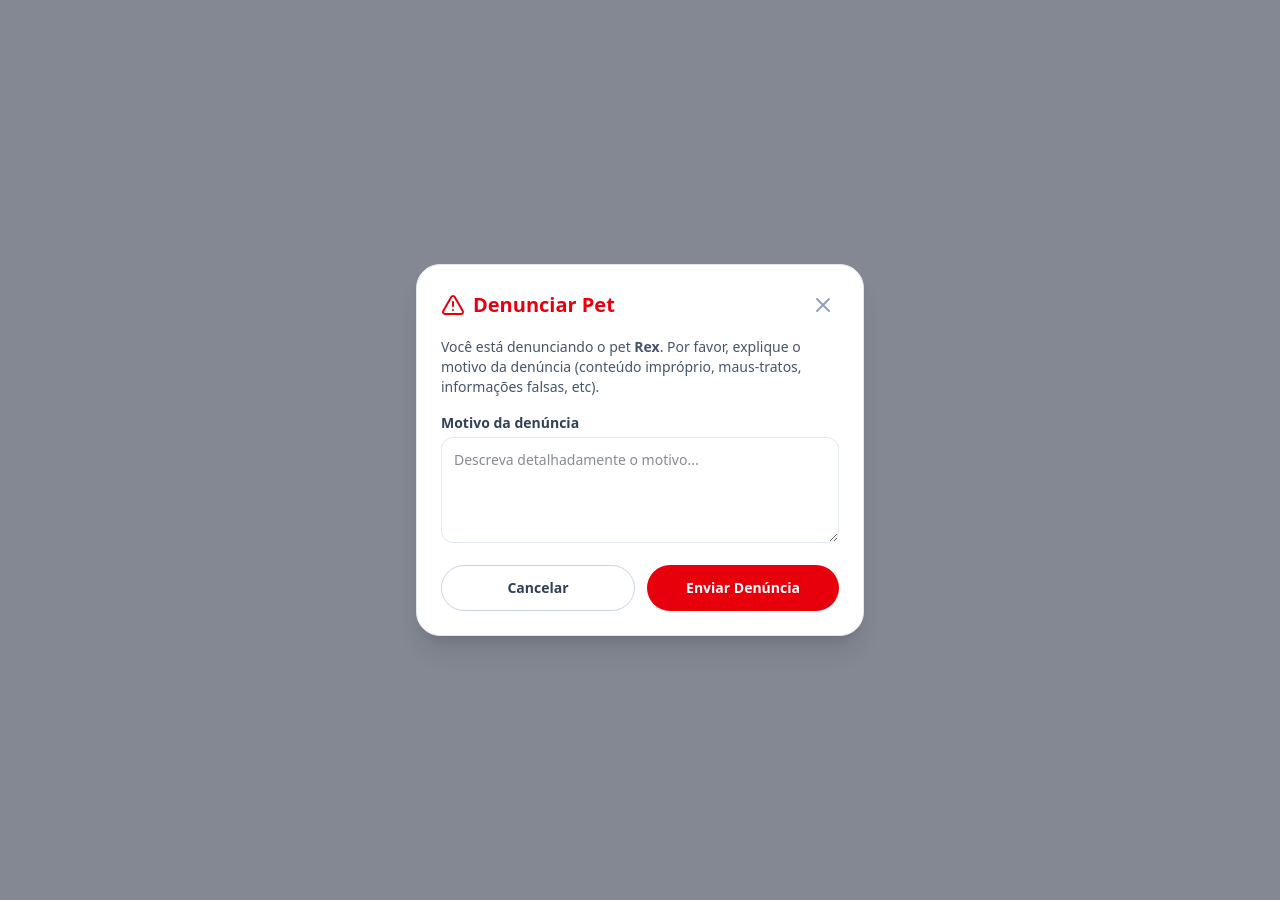
ReportPetModal › deve mostrar erro se o motivo estiver vazio
Click the button "Enviar Denúncia". click: (743, 588)
box: [647,565,839,611]
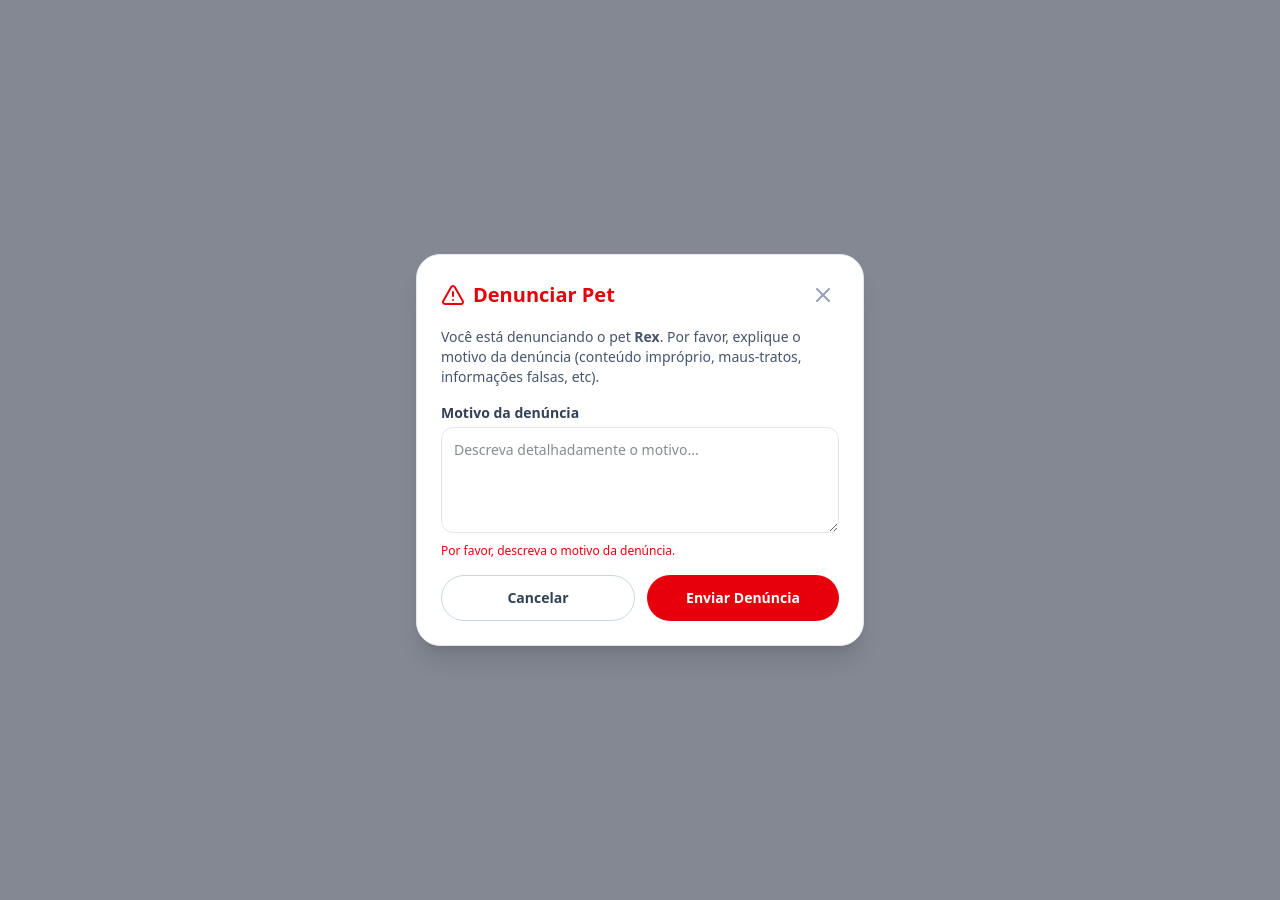
Now the text "Por favor, descreva o motivo da denúncia." is shown, box [441,542,675,559]
